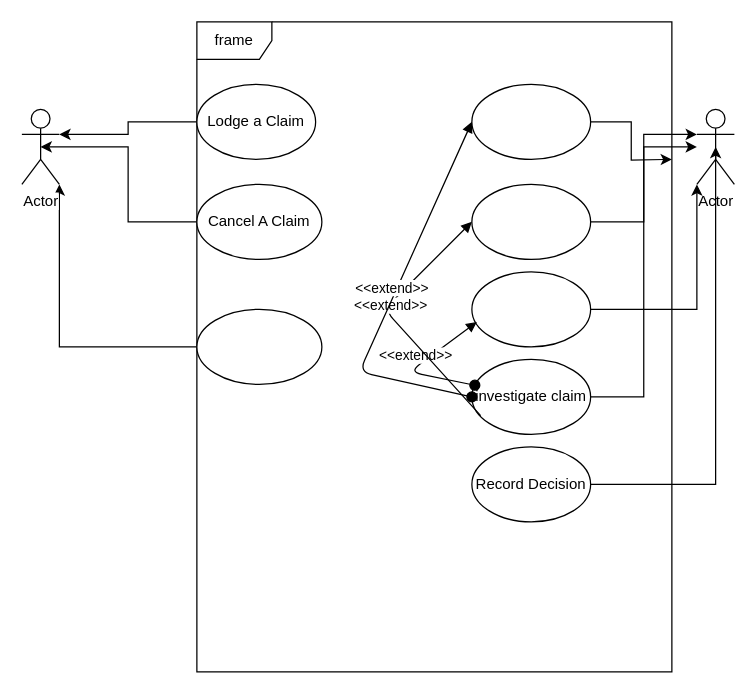
This 756x694 diagram has some shape labels left out. The centre of each missing label's shape, as x and y in pixels:
"approve claim" belongs at point (531, 309).
"Enquire Claim Status" belongs at point (259, 346).
"Reject claim" belongs at point (531, 221).
"Report claim" belongs at point (531, 121).
